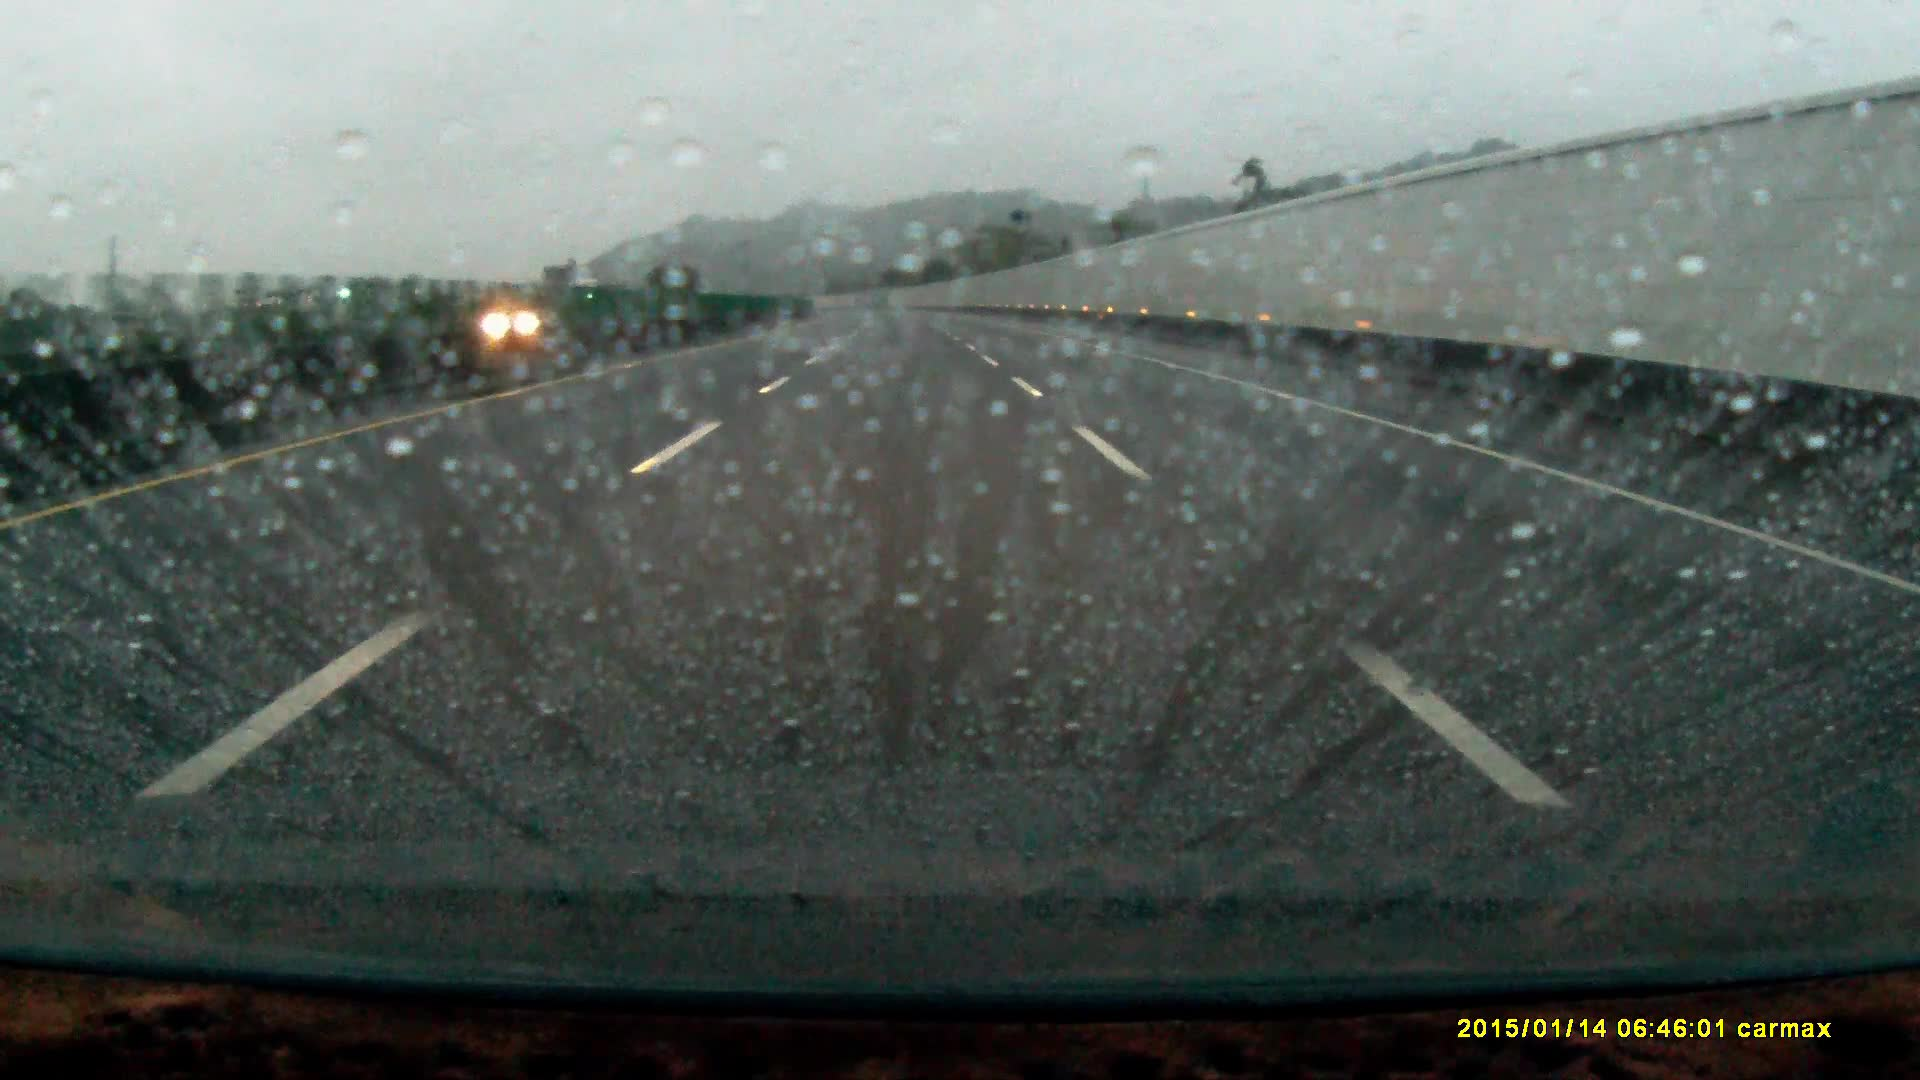vehicle: (483, 302, 560, 338)
